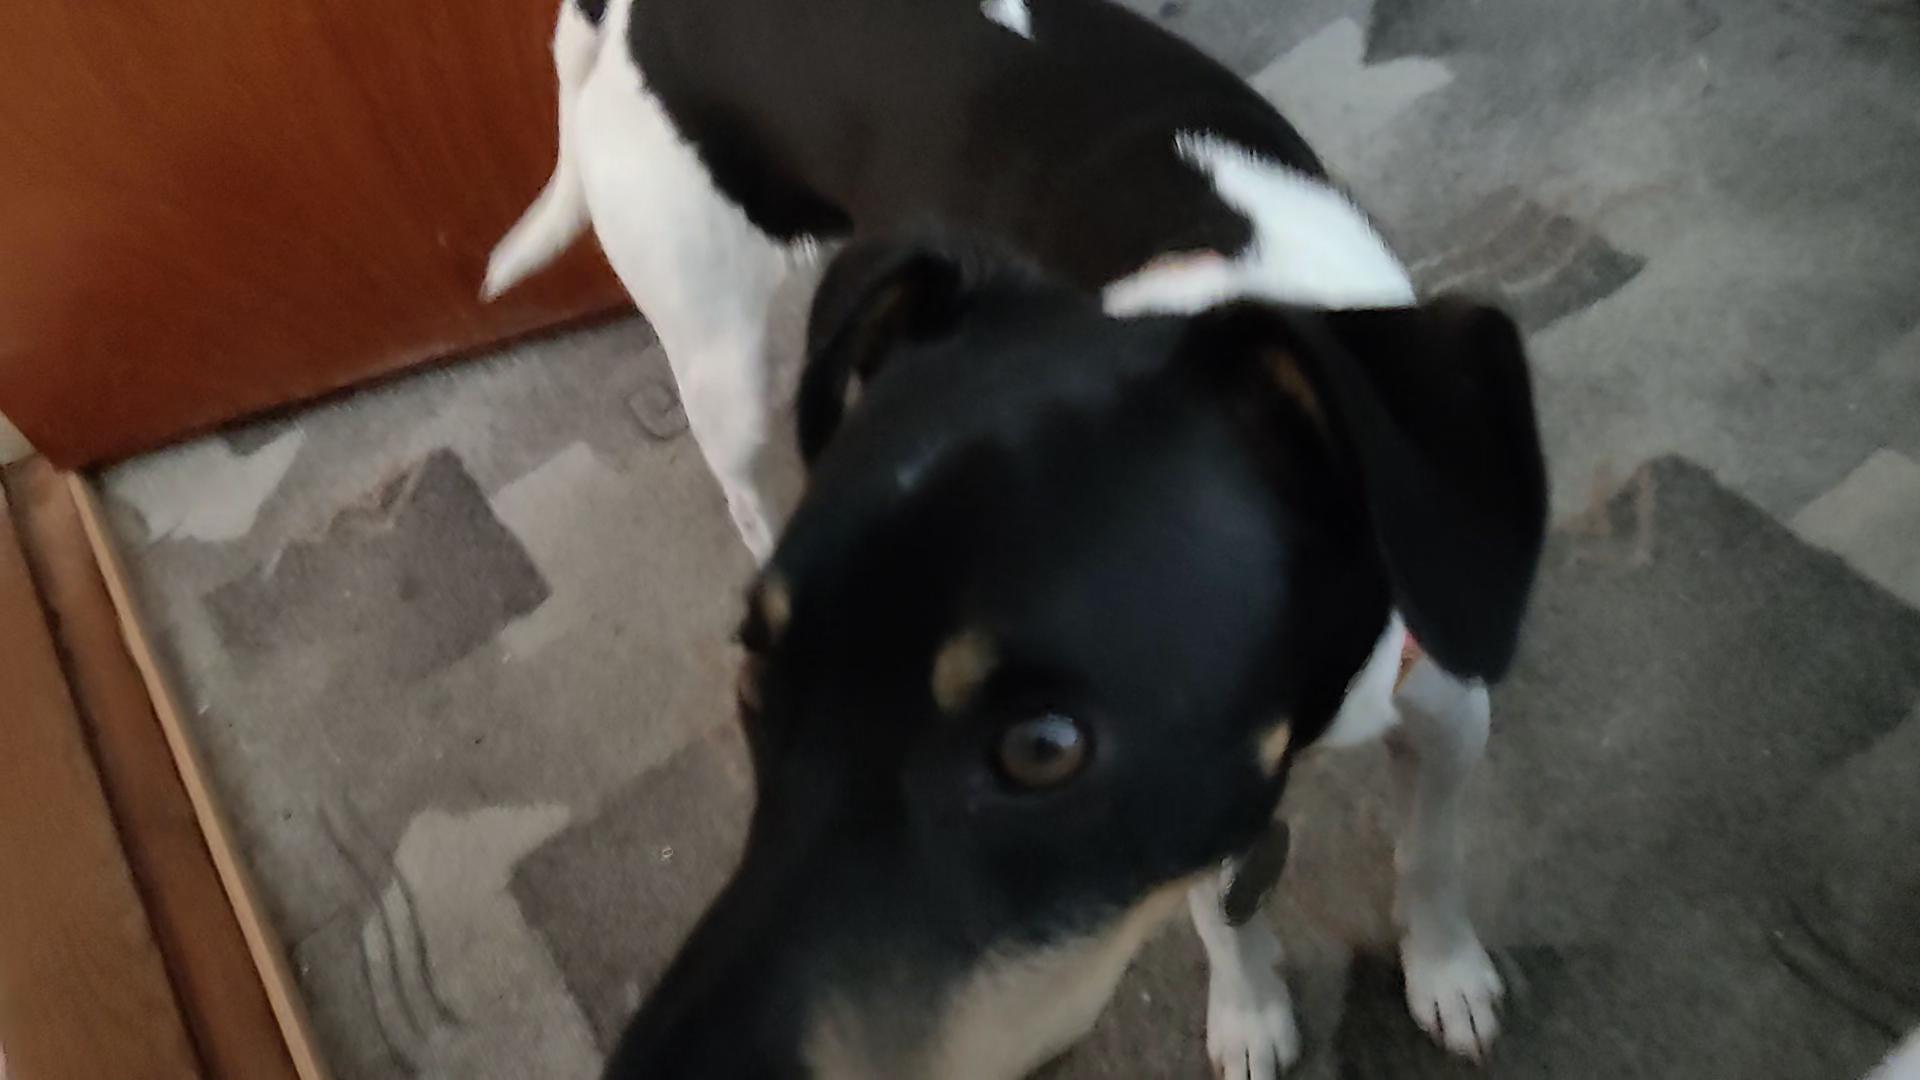Dog: (455, 0, 1575, 1080)
